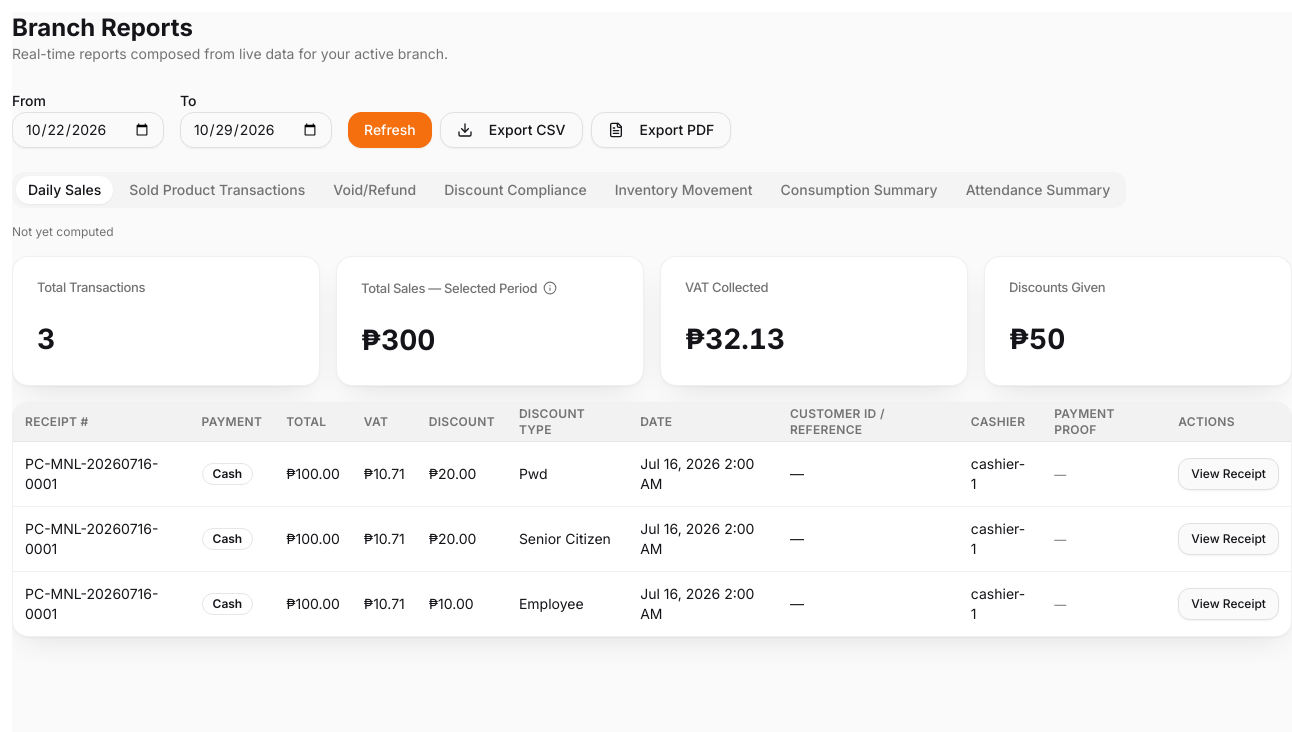
Test: SupervisorReportsPage › Discount Compliance — discount-proof viewing (Task 209.5) › computes Proof Available/Proof Missing/Proof Compliance Rate KPIs from PWD/Senior rows only, excluding Employee/Promotional discounts
Press the mouse on the tab "Discount Compliance": (516, 190) [432,176,599,204]
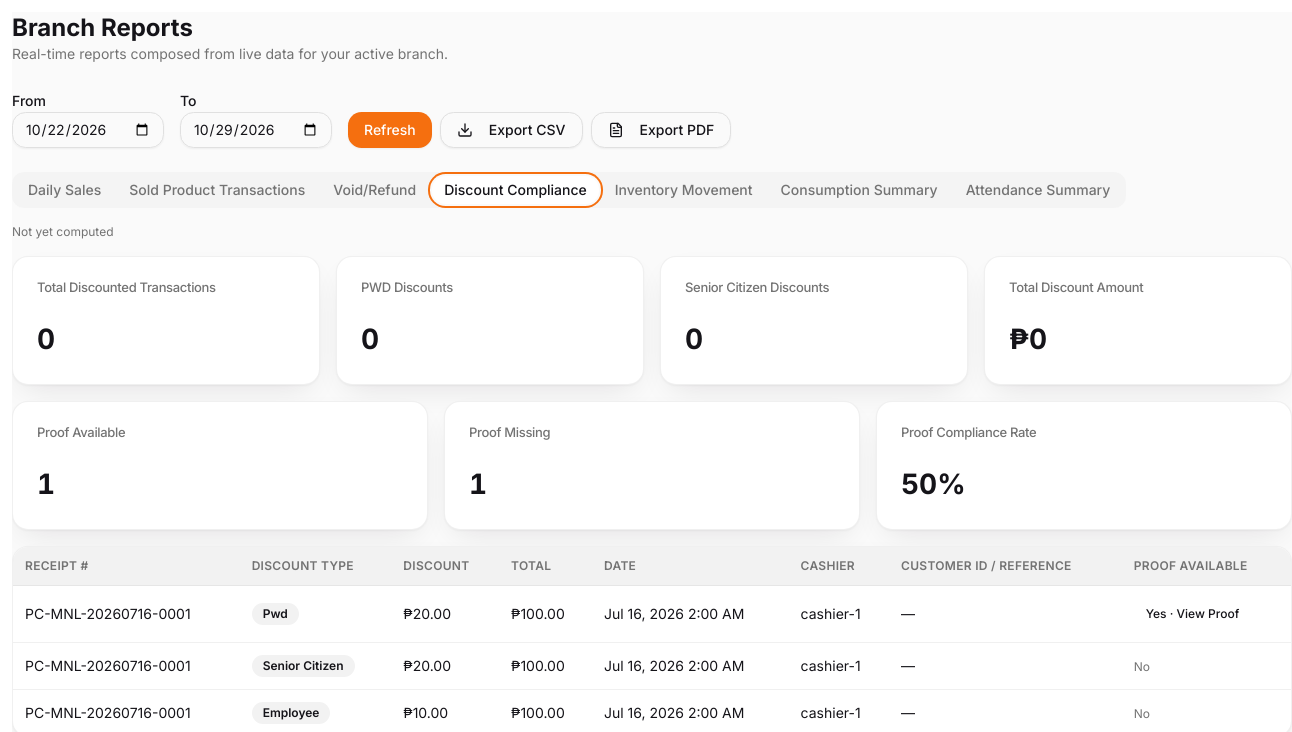
Result: the text "Proof Available" is shown at [37,426,125,439]
Result: the text "Proof Missing" is shown at [469,426,550,439]
Result: the text "Proof Compliance Rate" is shown at [901,426,1036,439]
